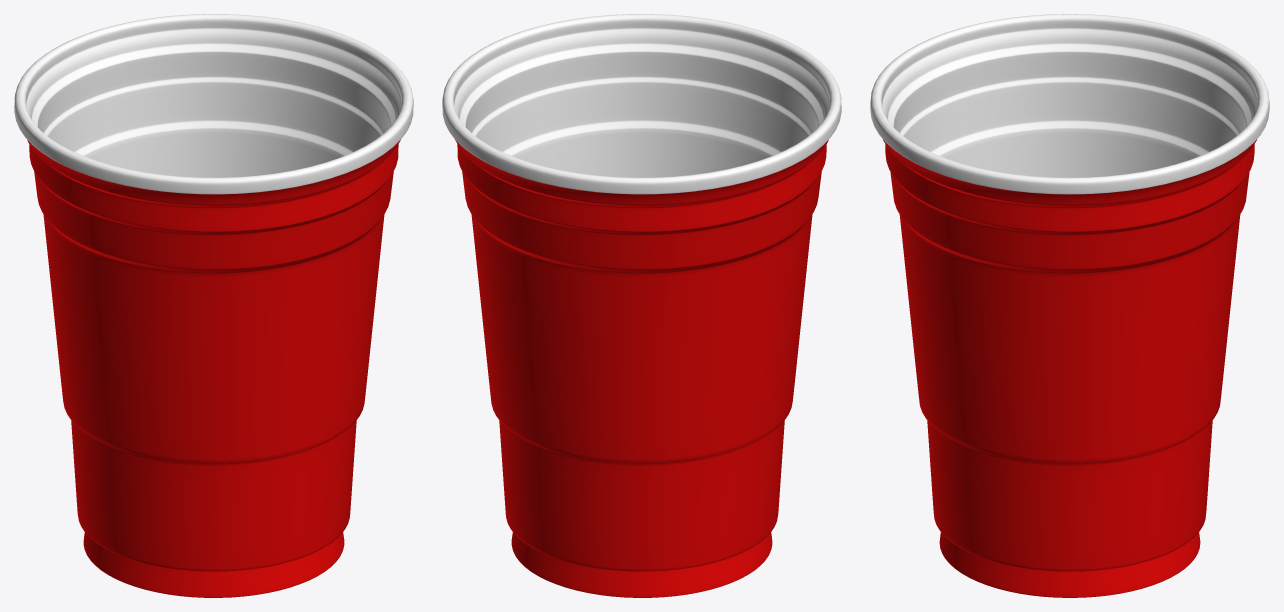
The model's file is red_plastic_cup.glb.
The picture shows the model from 3 angles, left to right: view 1: azimuth 30°, elevation 25°; view 2: azimuth 150°, elevation 25°; view 3: azimuth 270°, elevation 25°; orthographic projection.
Parts seen in each view (by area): view 1: Object_2, Object_3; view 2: Object_2, Object_3; view 3: Object_2, Object_3.
Part boxes in pixels (<box>): Object_2: <box>27,140,400,597</box>; Object_3: <box>14,14,413,194</box>; Object_2: <box>455,140,828,597</box>; Object_3: <box>442,14,841,194</box>; Object_2: <box>883,140,1256,597</box>; Object_3: <box>870,14,1269,194</box>.
Bounding box in the file's own units: 0.0951 × 0.1174 × 0.0951.
